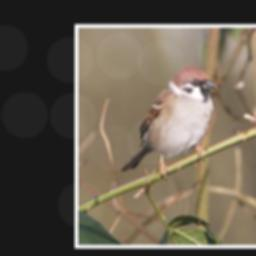Sparrow: (117, 64, 219, 181)
